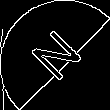N_SE: (23, 23, 87, 87)
